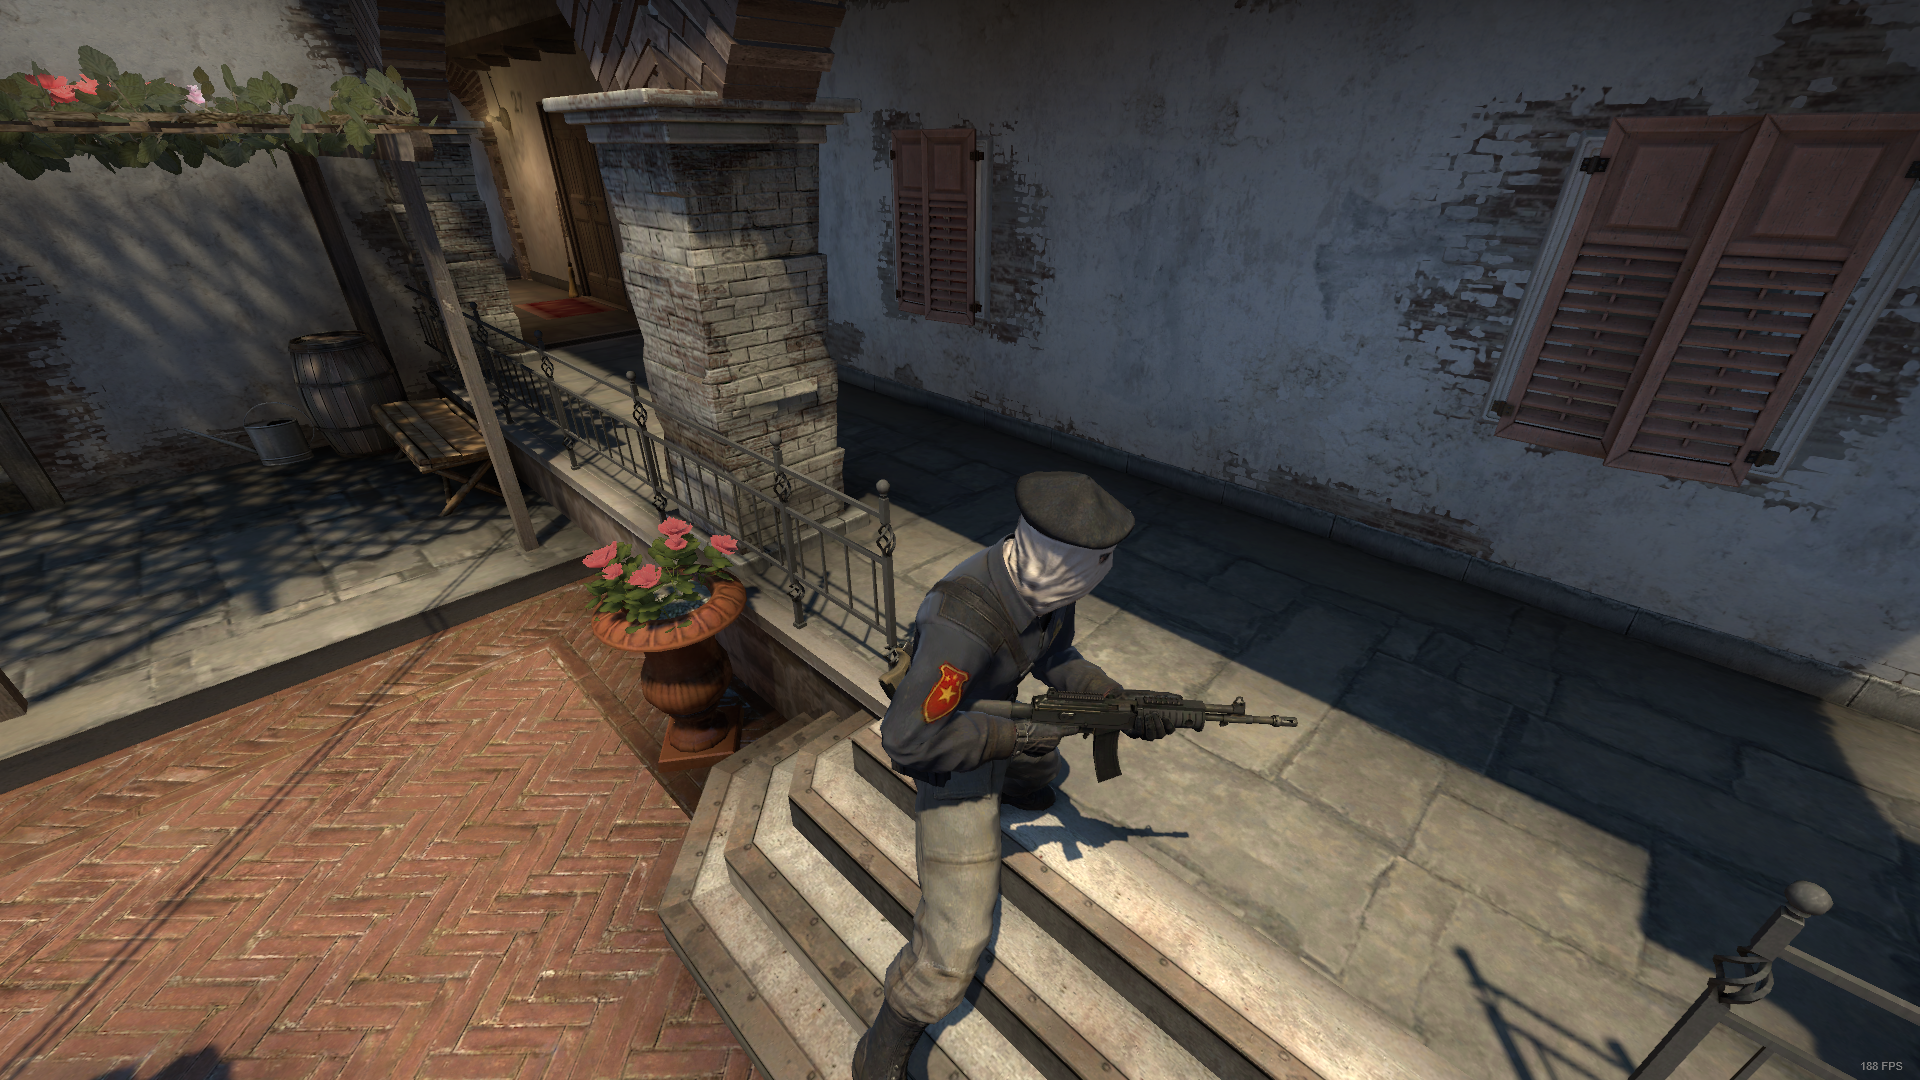t: (847, 469, 1156, 1080)
